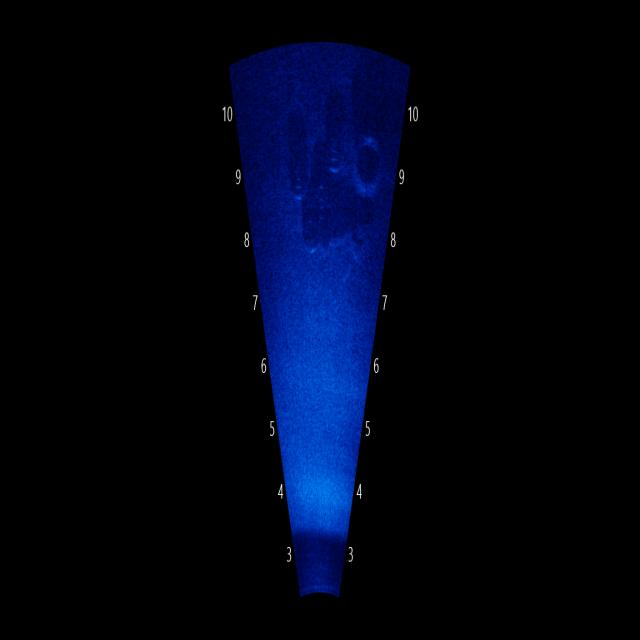circle: (356, 120, 388, 206), (290, 146, 315, 208), (324, 126, 347, 188)
